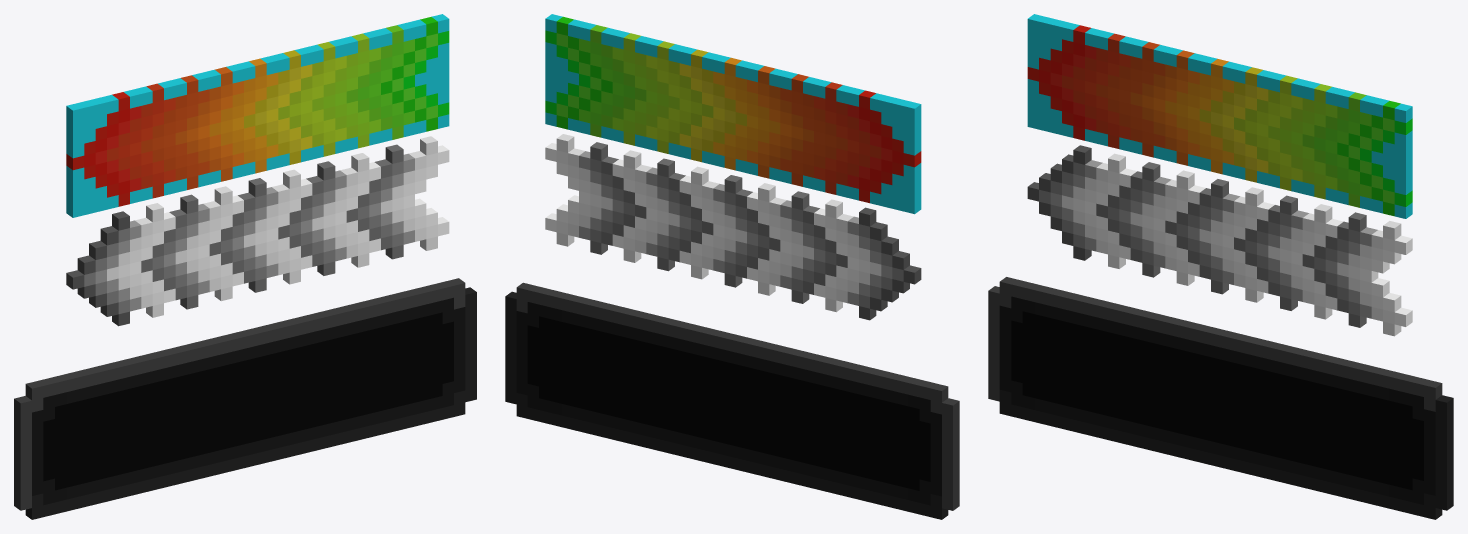
The model's file is bar-12.obj.
The picture shows the model from 3 angles, left to right: view 1: azimuth 30°, elevation 25°; view 2: azimuth 150°, elevation 25°; view 3: azimuth 330°, elevation 25°; orthographic projection. The views are drawn at different scales.
Bounding box in the file's own units: 4 × 3.4 × 0.2.
Materials: 1 (1 with a texture image).
